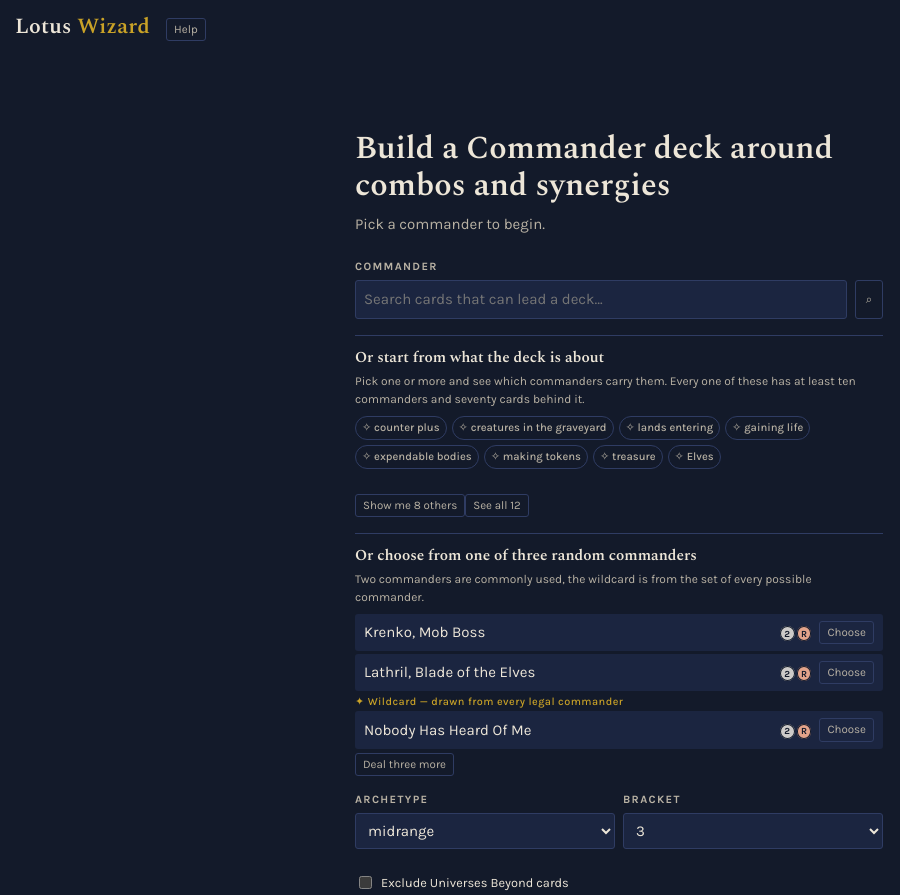
Scenario: route 1 — start from what the deck is about › makes each offer a real toggle, keyboard reachable and not colour alone
The width and height of the screenshot is (900, 895).
Check: the field labelled "Commander" is shown, box [355,280,847,319]
Click the button "✧ counter plus" at [401, 428], box [355,416,447,440]
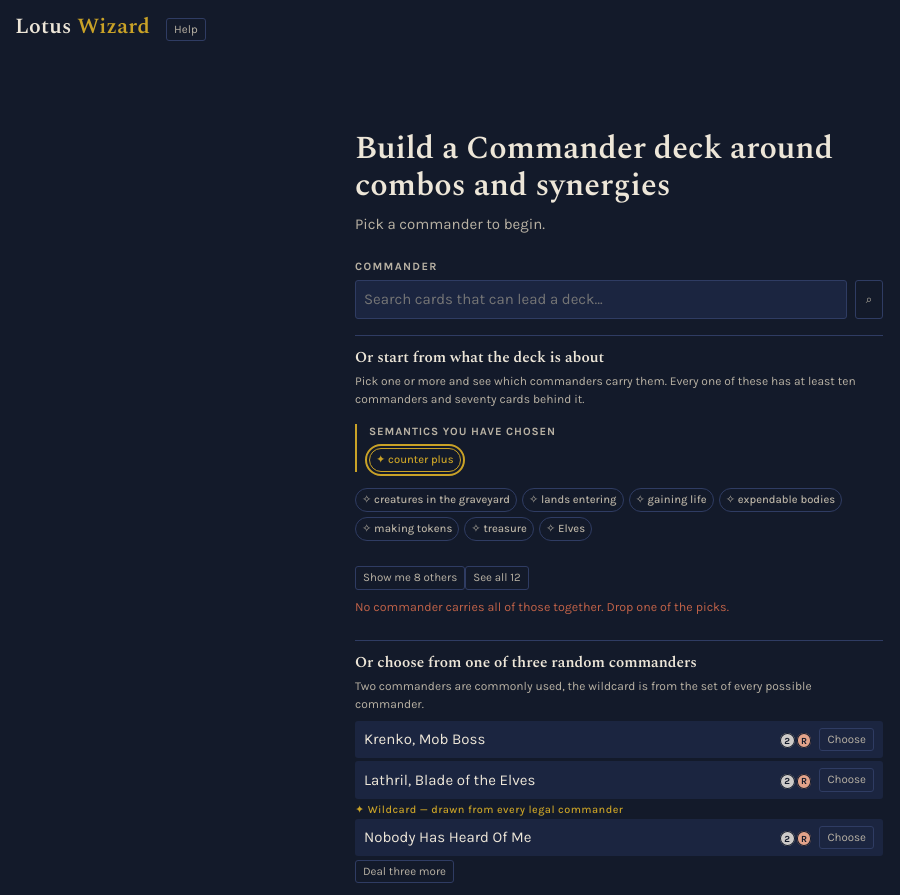
Check: the button "✦ counter plus" is shown, box [369,448,461,472]
